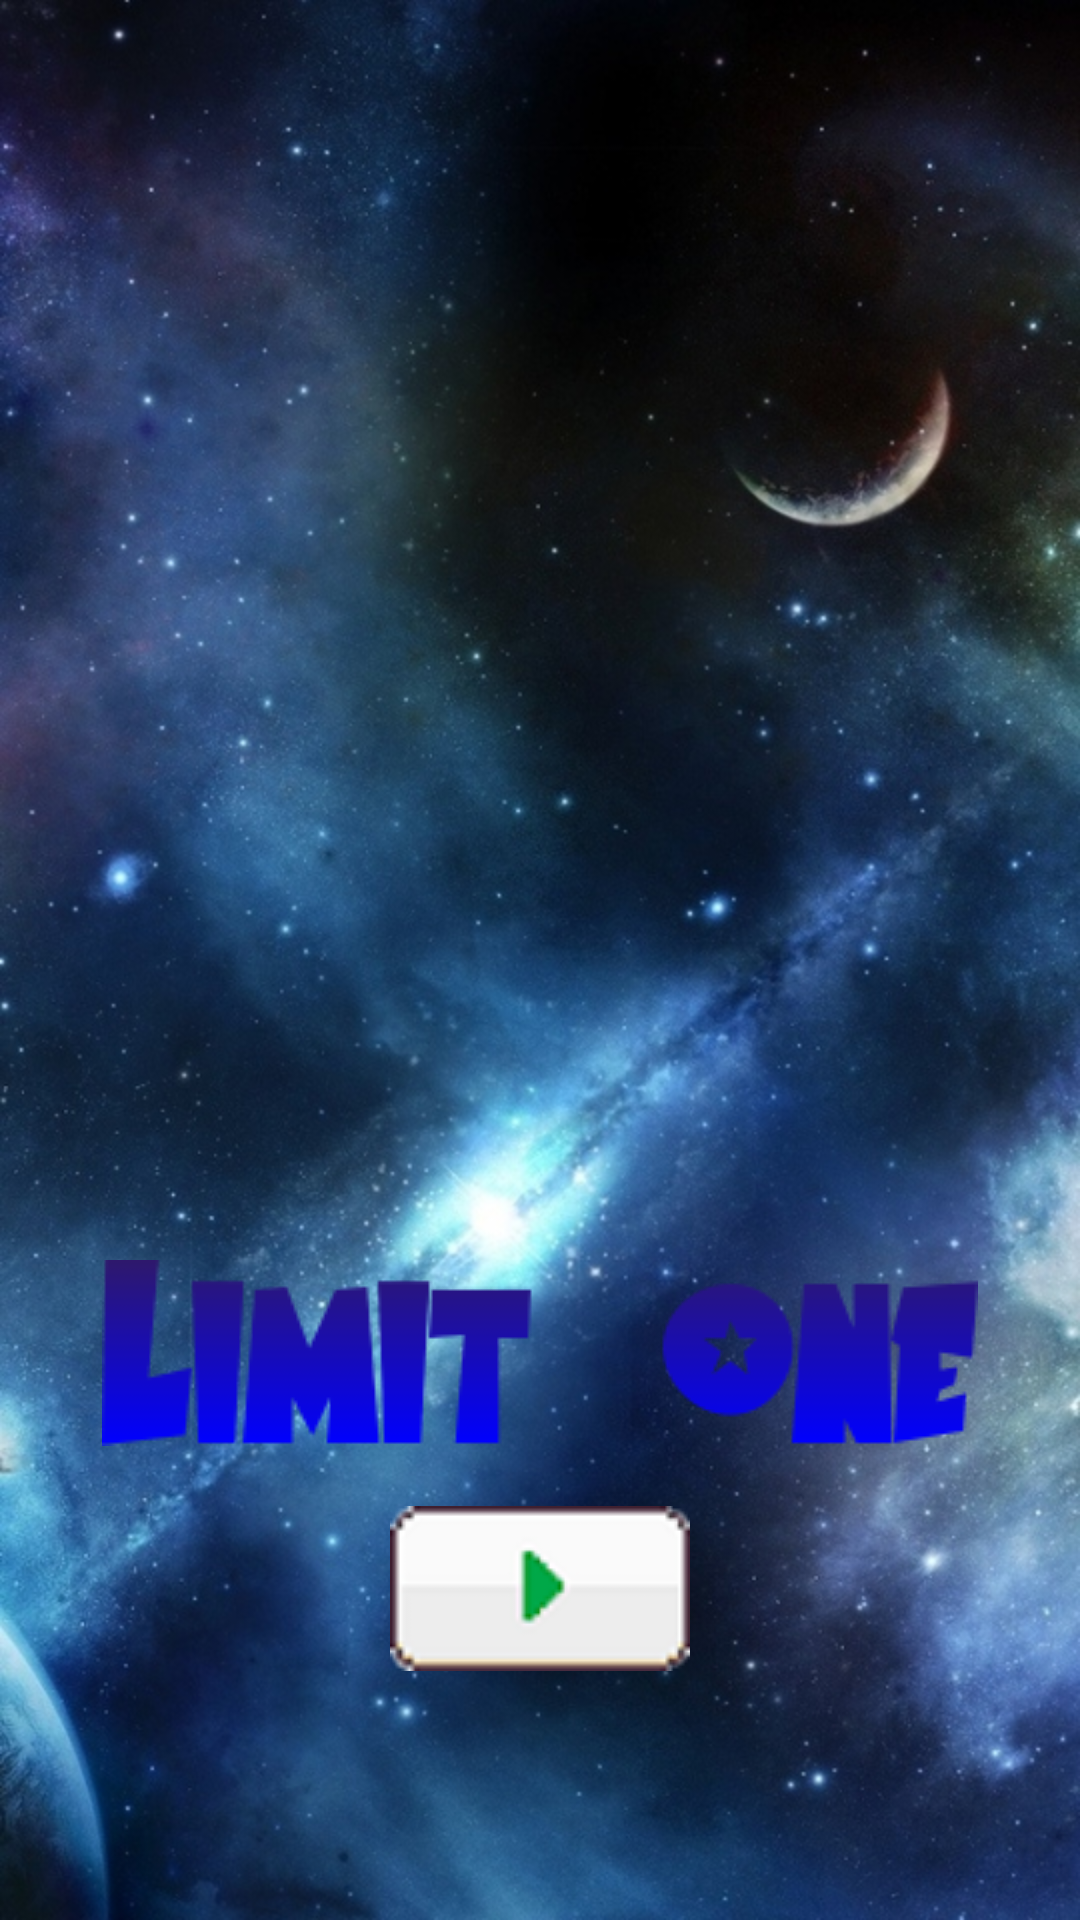

Icon click points for this 1080×1920 phone screenshot, format (x,y):
testplaybtn: (540,1588)
